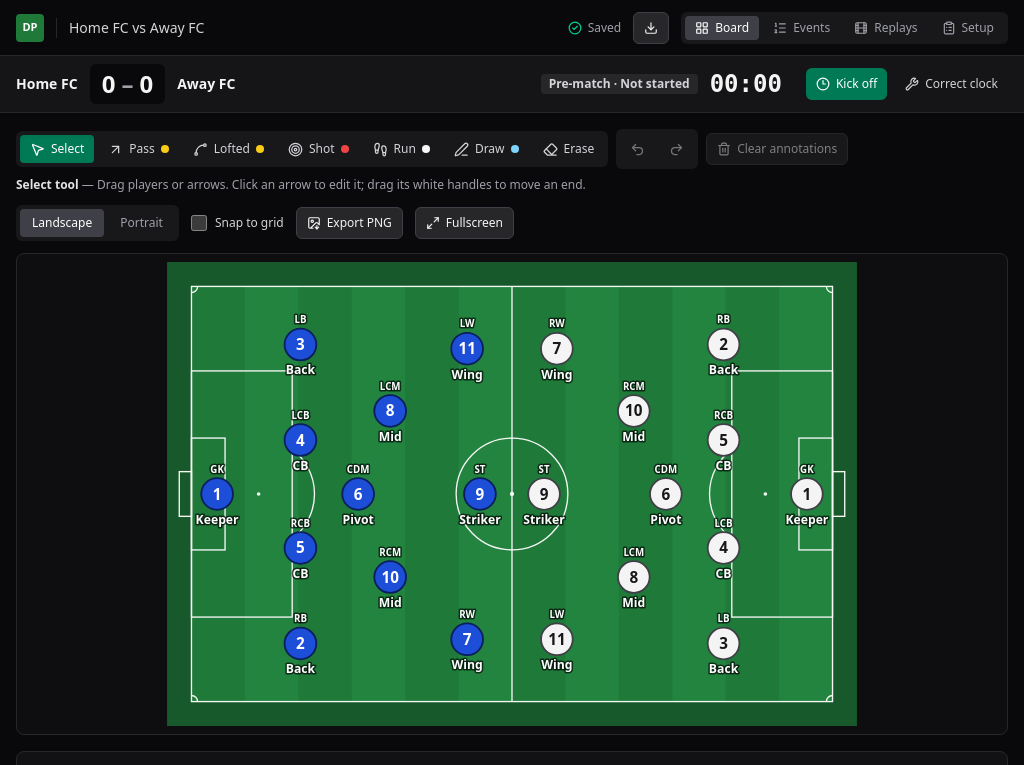
drawing tools › shows the active tool clearly and starts in Select
This screenshot has width=1024, height=765.
Click the button with aria-label "Shot tool" at (318, 149), box [278, 135, 359, 163]
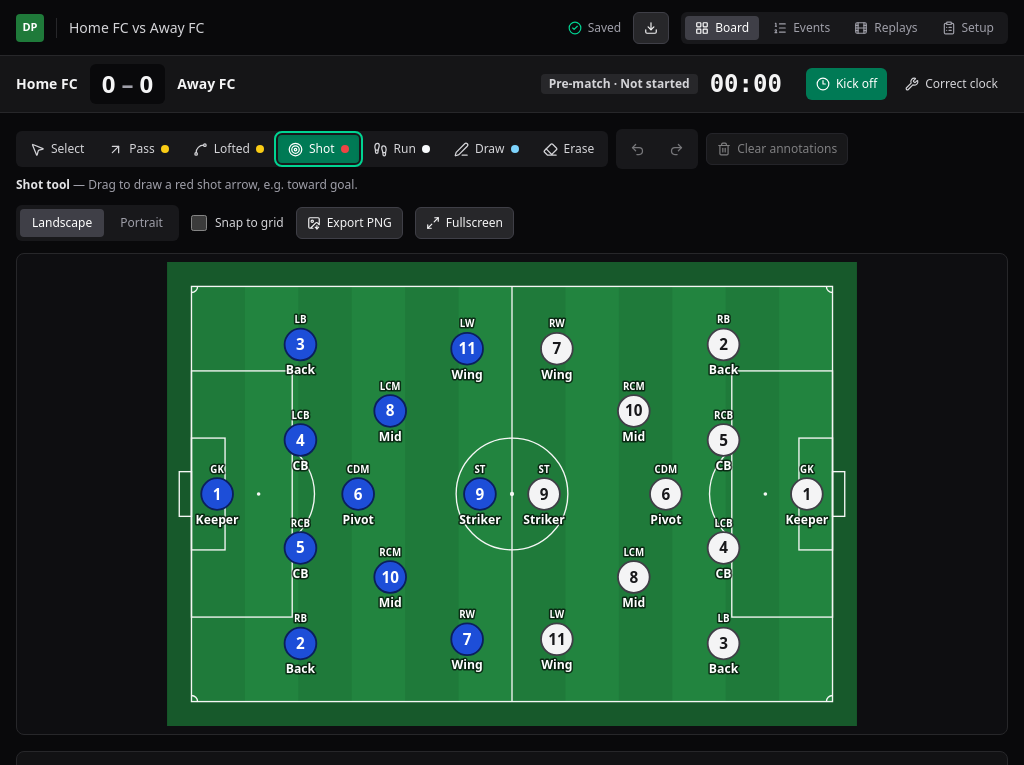
Expected: the text "Shot tool" is shown, [16, 176, 70, 193]
